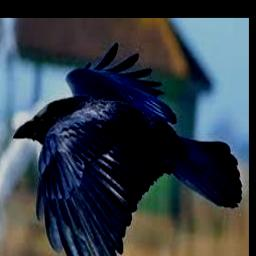Crow: (13, 42, 243, 256)
